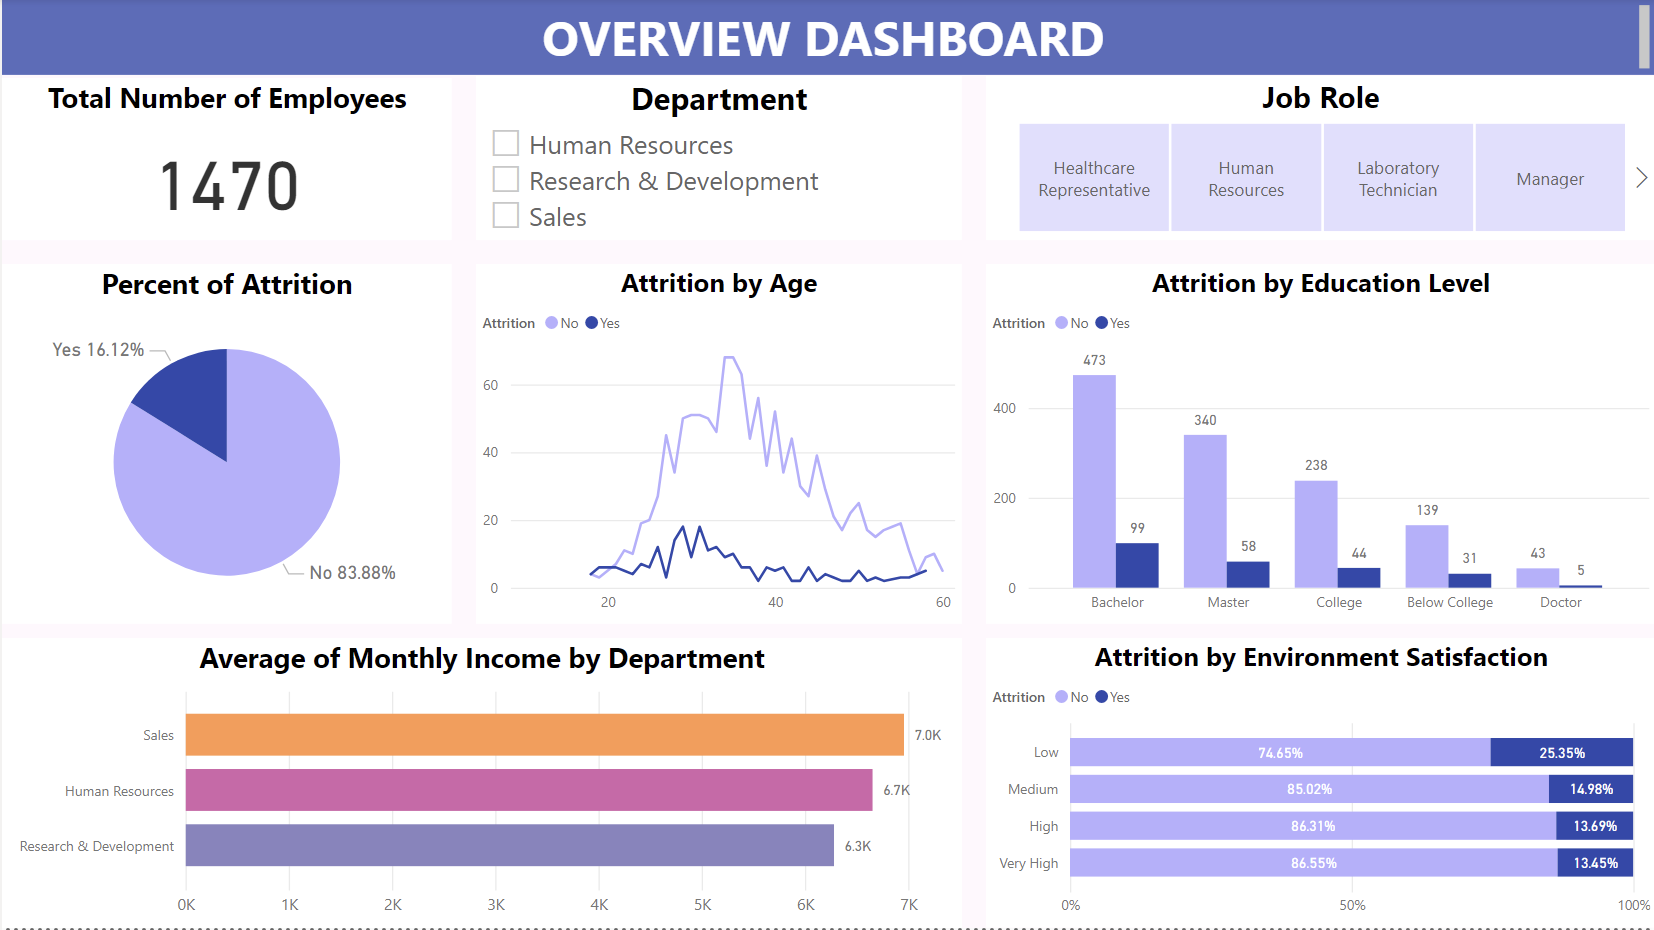

Layout of this report page (visuals, bound fields, positions):
{"tool":"powerbi","page":{"name":"Overview","canvas":[1280,720],"ordinal":0},"visuals":[{"type":"pieChart","title":"Percent of Attrition","fields":{"Category":["hr_employee_attrition_transform.Attrition"],"Y":["CountNonNull(hr_employee_attrition_transform.EmployeeID)"]},"box":[0,205.9,348.2,278.6],"z":0},{"type":"textbox","box":[0,0,1280,59.6],"z":1000},{"type":"card","title":"Total Number of Employees","fields":{"Values":["CountNonNull(hr_employee_attrition_transform.EmployeeID)"]},"box":[0,61.9,348.2,125.4],"z":2000},{"type":"slicer","title":"Department","fields":{"Values":["hr_employee_attrition_transform.Department"]},"box":[366.8,60.4,376.1,126.9],"z":3000},{"type":"slicer","title":"Job Role","fields":{"Values":["hr_employee_attrition_transform.JobRole"]},"box":[761.5,60.4,518.5,126.9],"z":4000},{"type":"clusteredColumnChart","title":"Attrition by Education Level","fields":{"Y":["CountNonNull(hr_employee_attrition_transform.Attrition)"],"Series":["hr_employee_attrition_transform.Attrition"],"Category":["hr_employee_attrition_transform.Education_Rating"]},"box":[761.5,205.9,518.5,278.6],"z":5000},{"type":"lineChart","title":"Attrition by Age","fields":{"Category":["hr_employee_attrition_transform.Age"],"Y":["CountNonNull(hr_employee_attrition_transform.Attrition)"],"Series":["hr_employee_attrition_transform.Attrition"]},"box":[366.8,205.9,376.1,278.6],"z":6000},{"type":"clusteredBarChart","title":"Average of Monthly Income by Department","fields":{"Y":["Avg(hr_employee_attrition_transform.MonthlyIncome)"],"Category":["hr_employee_attrition_transform.Department"]},"box":[0,495.3,742.9,224.4],"z":7000},{"type":"hundredPercentStackedBarChart","title":"Attrition by Environment Satisfaction","fields":{"Category":["hr_employee_attrition_transform.Environment_Satisfaction"],"Series":["hr_employee_attrition_transform.Attrition"],"Y":["CountNonNull(hr_employee_attrition_transform.Attrition)"]},"box":[761,495,519,224],"z":8000}]}

Visuals, with their boxes in screenshot pixels (x1, y1, x2, y2), scaled from the page's 1280x720 canvas onto the 1654x930 screenshot:
"Percent of Attrition" pieChart: box=[0, 266, 450, 626]
textbox: box=[0, 0, 1653, 77]
"Total Number of Employees" card: box=[0, 80, 450, 242]
"Department" slicer: box=[474, 78, 960, 242]
"Job Role" slicer: box=[984, 78, 1653, 242]
"Attrition by Education Level" clusteredColumnChart: box=[984, 266, 1653, 626]
"Attrition by Age" lineChart: box=[474, 266, 960, 626]
"Average of Monthly Income by Department" clusteredBarChart: box=[0, 640, 960, 929]
"Attrition by Environment Satisfaction" hundredPercentStackedBarChart: box=[983, 639, 1653, 929]
